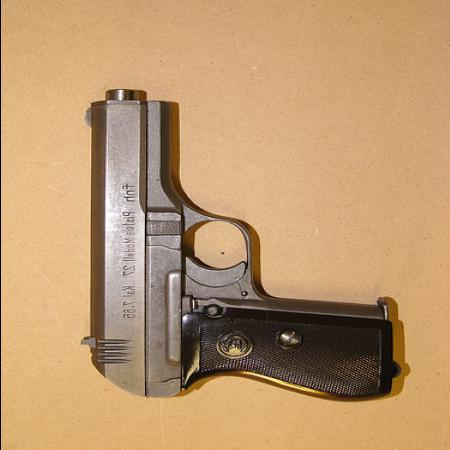Pistol: (82, 86, 398, 400)
